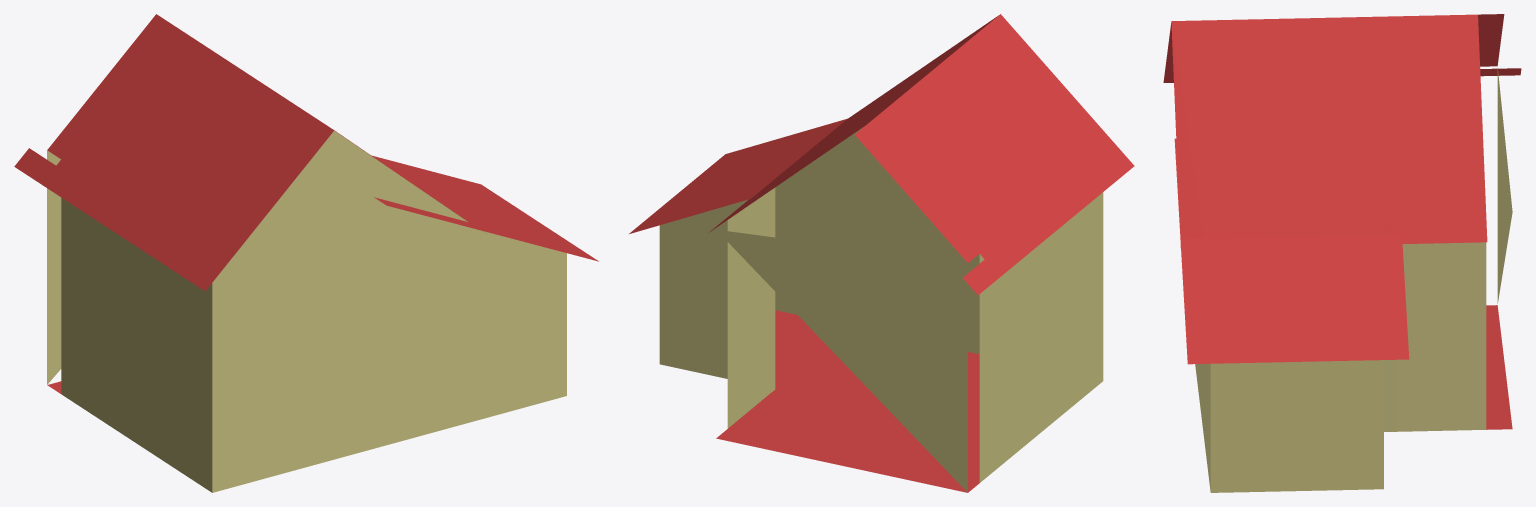
3 views of the same model, side by side, from view 1: azimuth 30°, elevation 25°; view 2: azimuth 150°, elevation 25°; view 3: azimuth 270°, elevation 25° (orthographic). The views are drawn at different scales.
Size of the model in its own units: 20.46 by 14.79 by 15.81.
